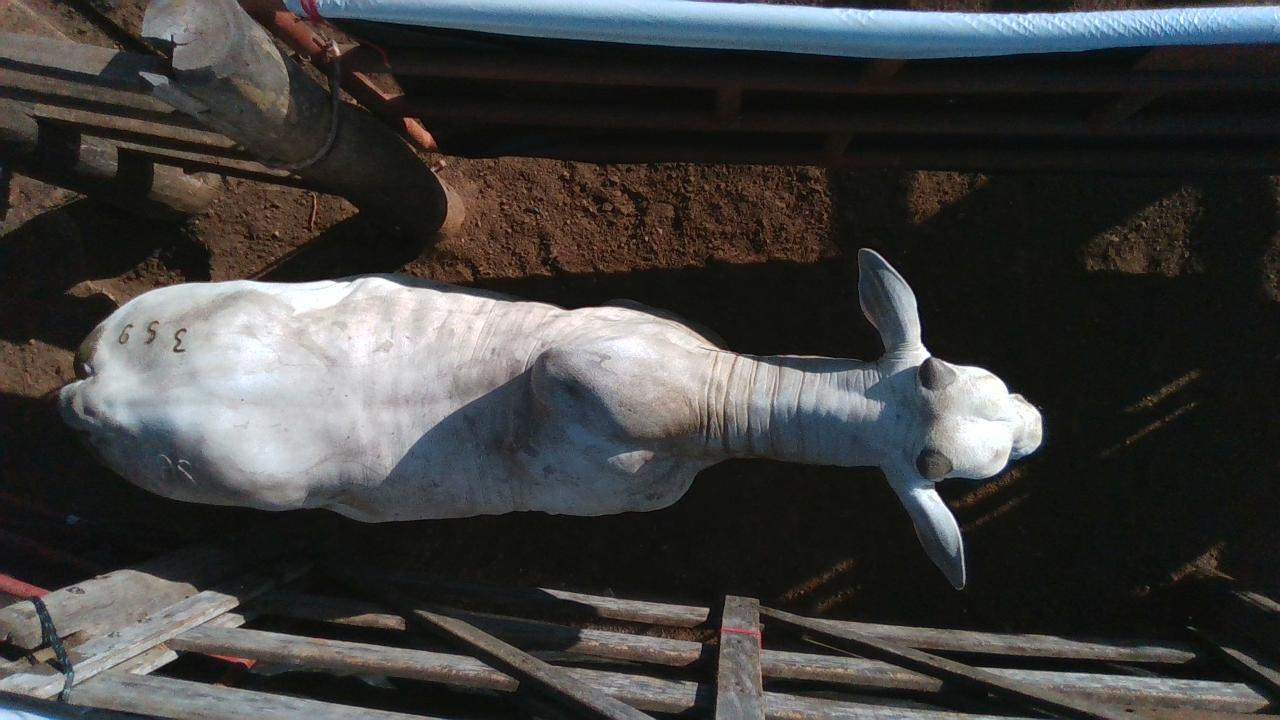cattle: (55, 245, 1045, 591)
